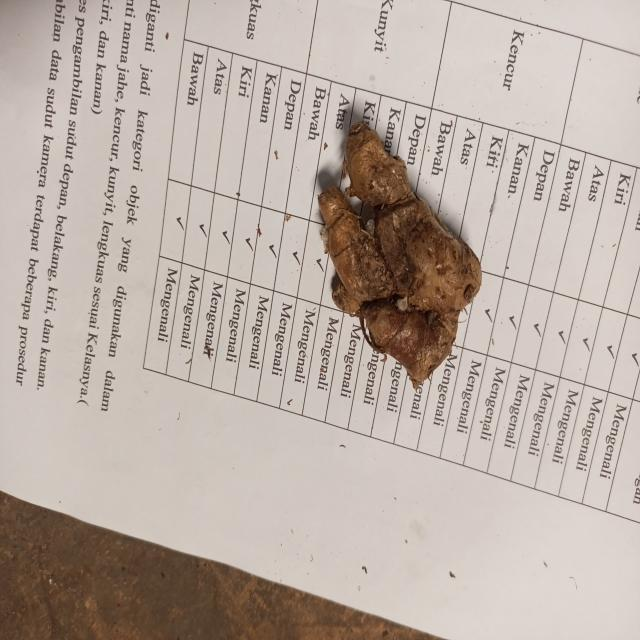ginger: (322, 131, 474, 374)
